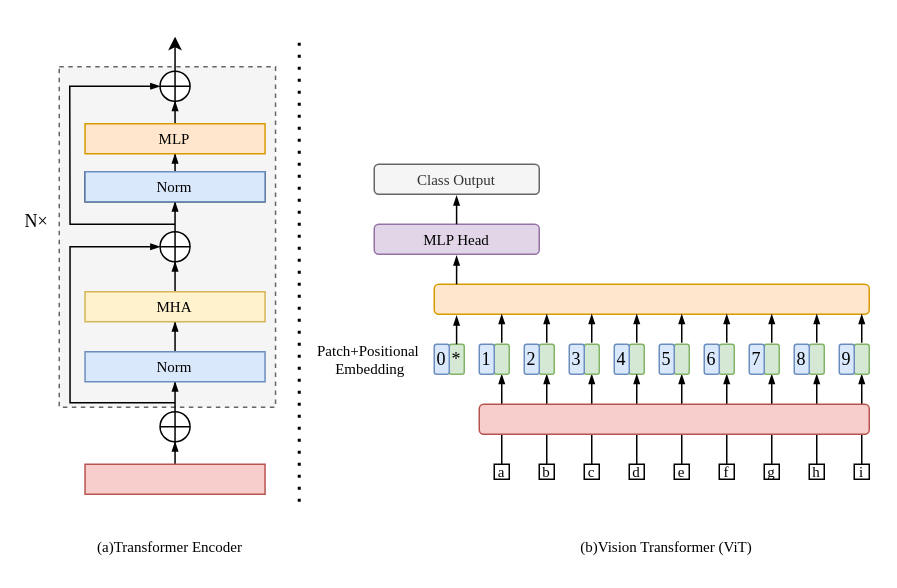
The diagram is 897 pixels wide and 588 high, and some of its shapes have lost their labels. Each missing label, with the centre of its shape:
"Embeded Patches" belongs at (174,478).
"Linear Projection of Flattened Patches" belongs at (673,418).
"Transformer Encoder" belongs at (651,298).
